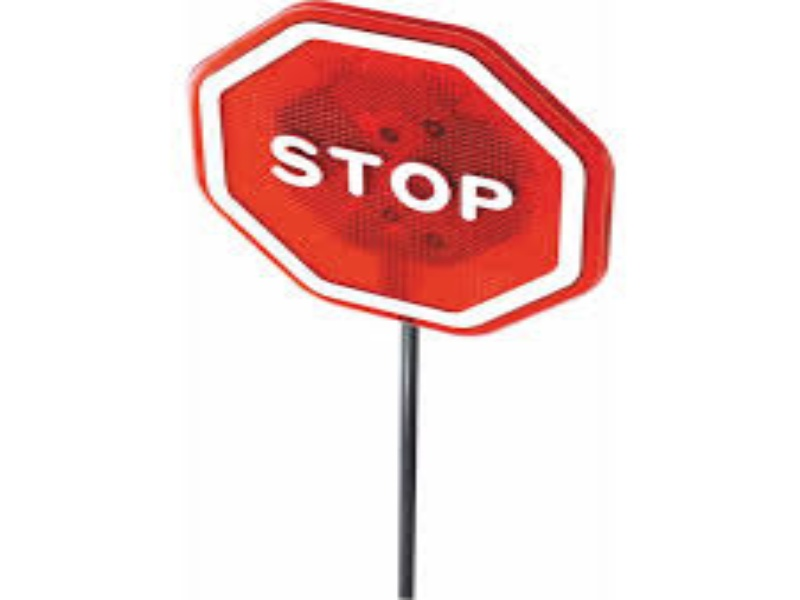Stop_Sign: (193, 1, 624, 336)
